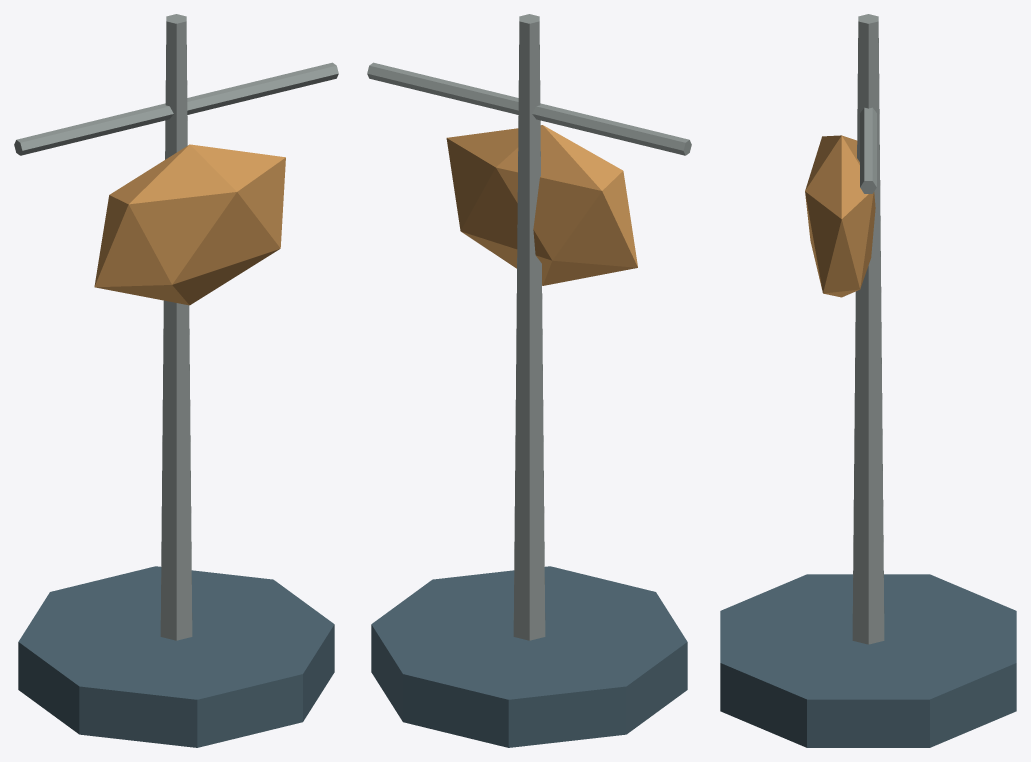
File: SM_COM_PROP_003_Antenna.glb
The picture shows the model from 3 angles, left to right: view 1: azimuth 30°, elevation 25°; view 2: azimuth 150°, elevation 25°; view 3: azimuth 270°, elevation 25°; orthographic projection.
Parts seen in each view (by area): view 1: SM_COM_PROP_003_Antenna; view 2: SM_COM_PROP_003_Antenna; view 3: SM_COM_PROP_003_Antenna.
Boxes of the visible parts, bbox=[...] form: SM_COM_PROP_003_Antenna: bbox=[14, 14, 338, 747]; SM_COM_PROP_003_Antenna: bbox=[367, 14, 691, 747]; SM_COM_PROP_003_Antenna: bbox=[720, 14, 1016, 747].
Size of the model in its own units: 1.1 by 2.2 by 0.8869.
